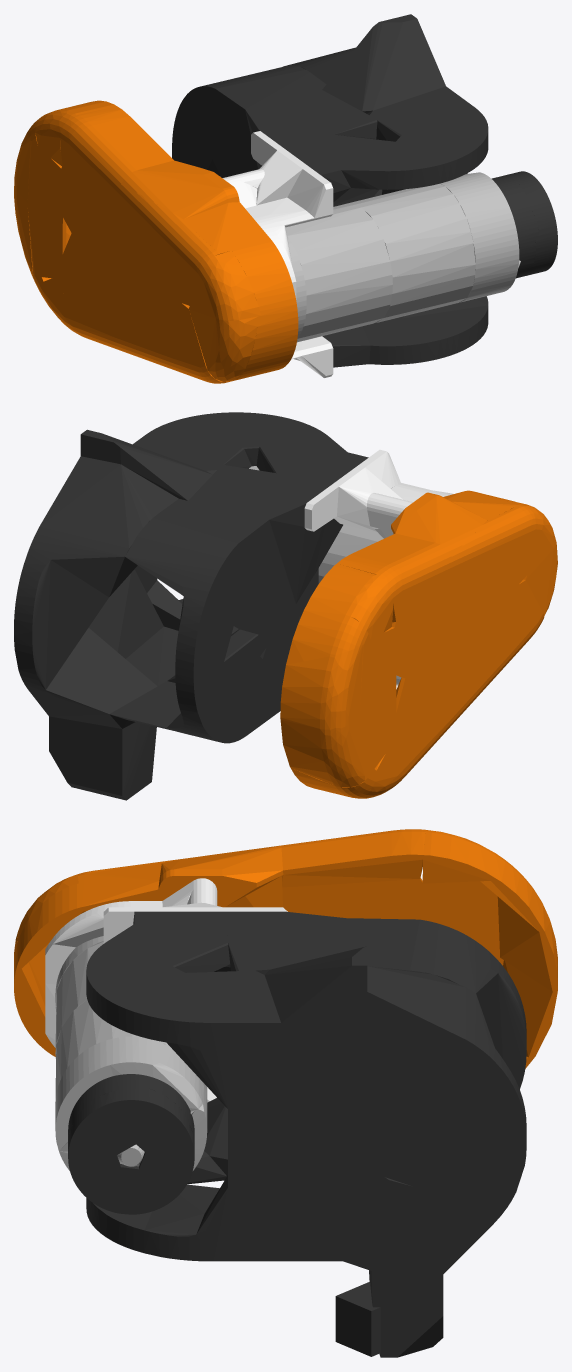
File: LLEG_LINK4_mesh.dae
The picture shows the model from 3 angles, top to bottom: view 1: azimuth 30°, elevation 25°; view 2: azimuth 150°, elevation 25°; view 3: azimuth 270°, elevation 25°; orthographic projection. The views are drawn at different scales.
Parts seen in each view (by area): view 1: LLEG_LINK4 (×5); view 2: LLEG_LINK4 (×4); view 3: LLEG_LINK4 (×6).
Boxes of the visible parts, x1=… form: LLEG_LINK4 (×5): x1=14, y1=14, x2=557, y2=383; LLEG_LINK4 (×4): x1=14, y1=412, x2=557, y2=800; LLEG_LINK4 (×6): x1=14, y1=829, x2=557, y2=1357.
Size of the model in its own units: 0.099 by 0.0855 by 0.1075.
